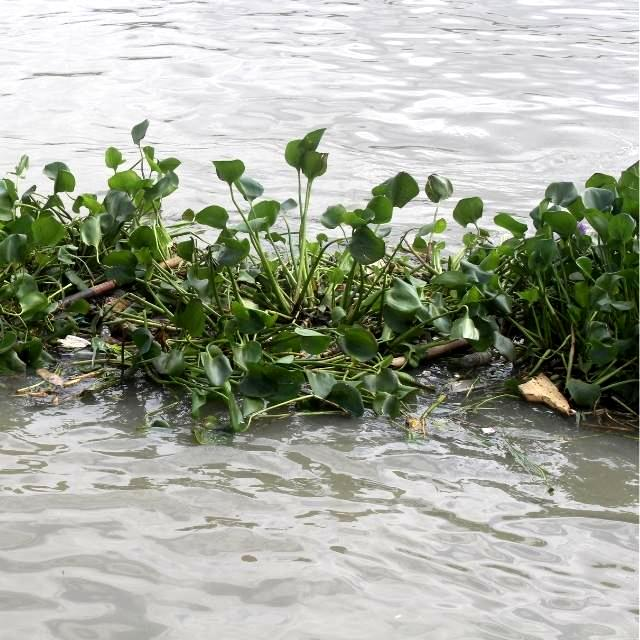water-hyacinth: (3, 106, 640, 454)
